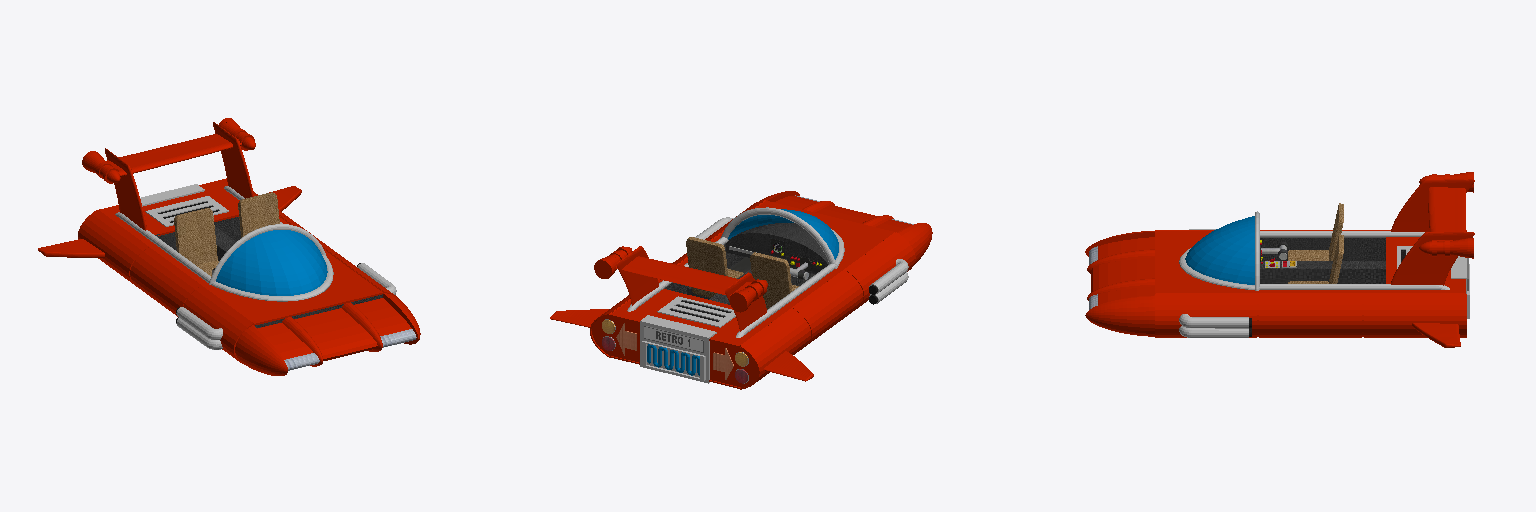
3 renders of one model, left to right at view 1: azimuth 30°, elevation 25°; view 2: azimuth 150°, elevation 25°; view 3: azimuth 270°, elevation 25°, orthographic.
Visible parts, largest first — view 1: RetroRacer; view 2: RetroRacer; view 3: RetroRacer.
Boxes of the visible parts, <box> form: RetroRacer: <box>38,118,420,375</box>; RetroRacer: <box>550,191,932,389</box>; RetroRacer: <box>1085,172,1474,347</box>.
Size of the model in its own units: 1.33 by 0.4998 by 1.74.
13 materials, 4 textured.